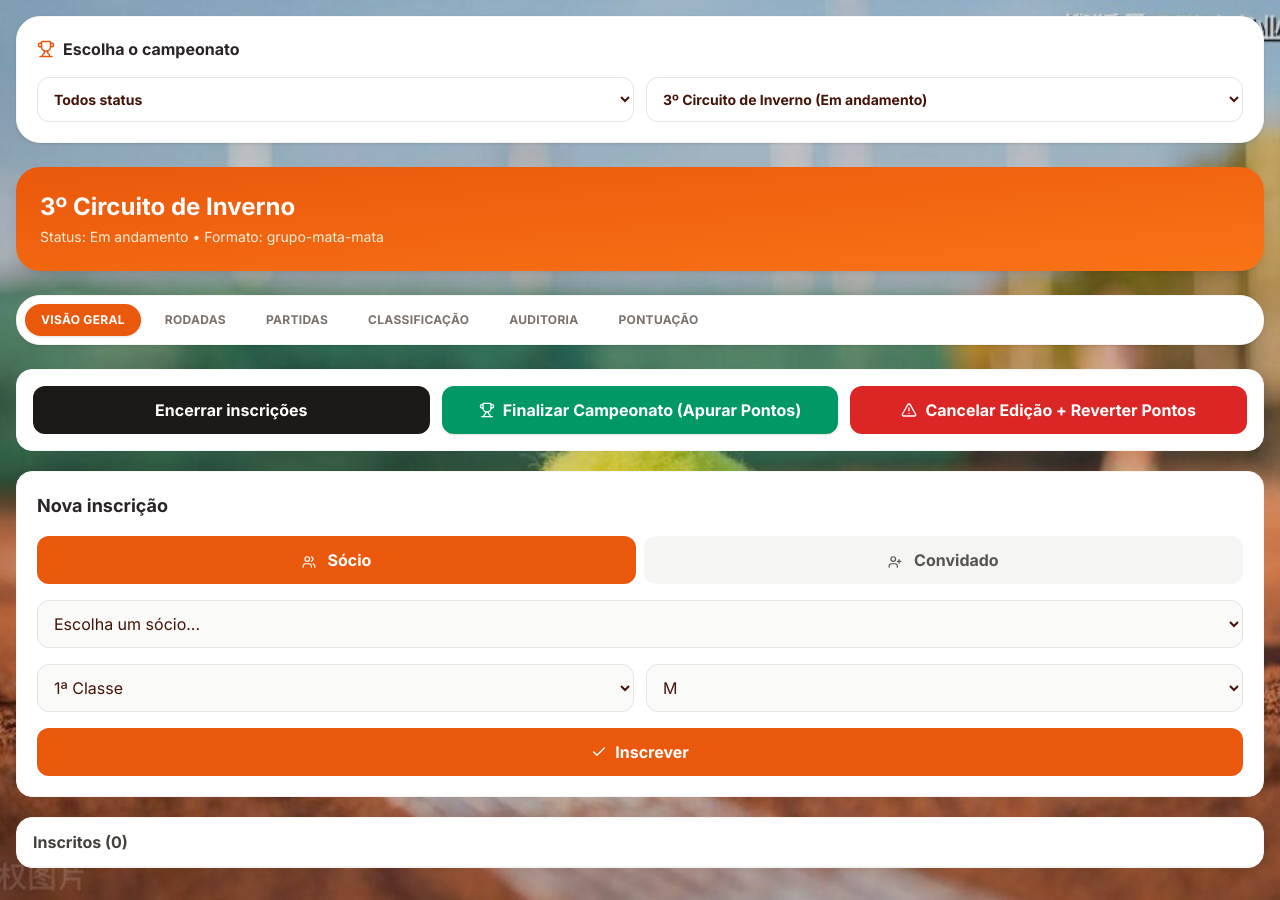
ChampionshipAdmin — ações que mexem no ranking › trata cancelar edição como ação destrutiva, não como aviso
Click the button "Cancelar Edição + Reverter Pontos": (1049, 410) [850,386,1247,434]
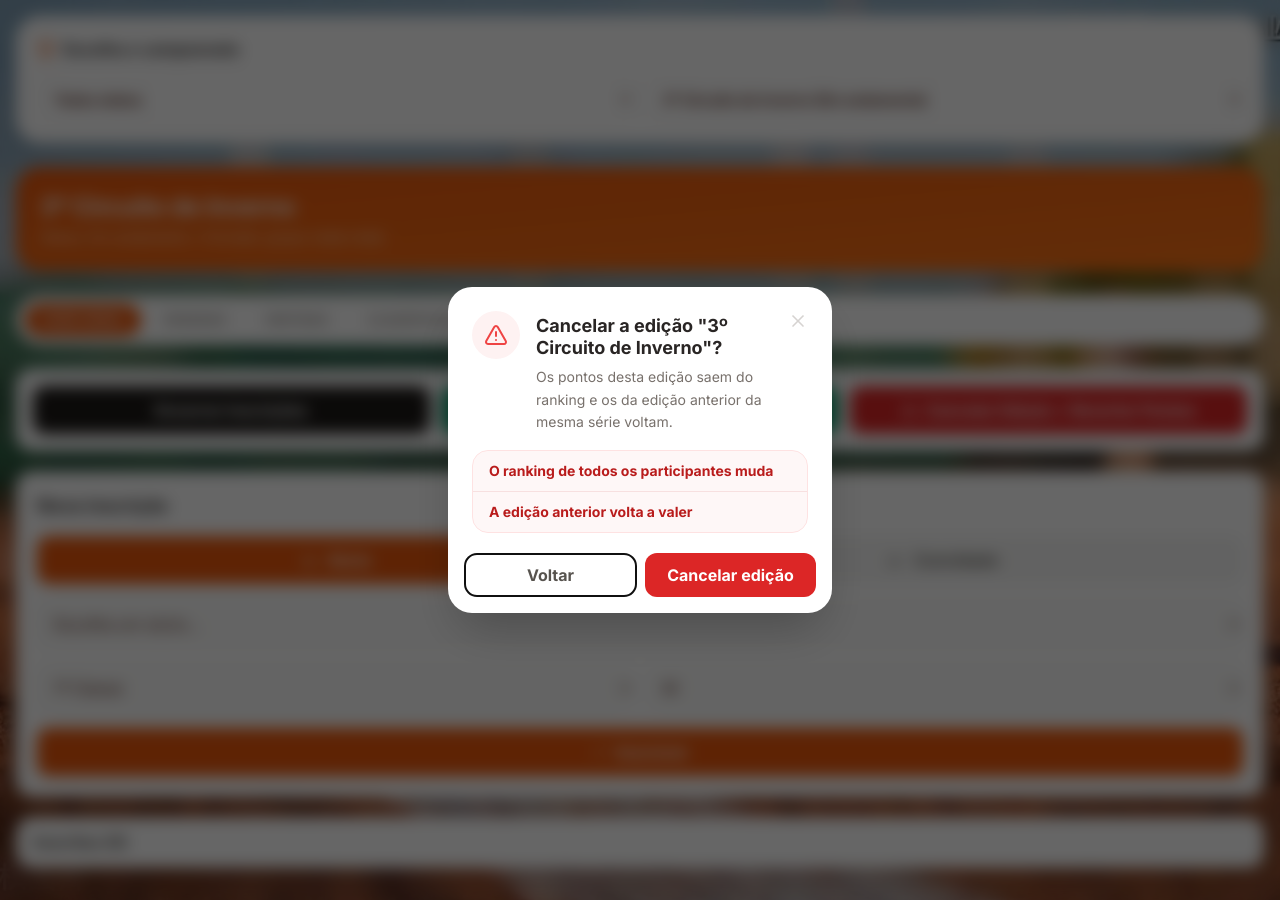
expect the heading "Cancelar a edição \"3º Circuito de Inverno\"?" is shown: met, box [536,315,728,358]
expect the list item "A edição anterior volta a valer" is shown: met, box [489,503,692,520]
